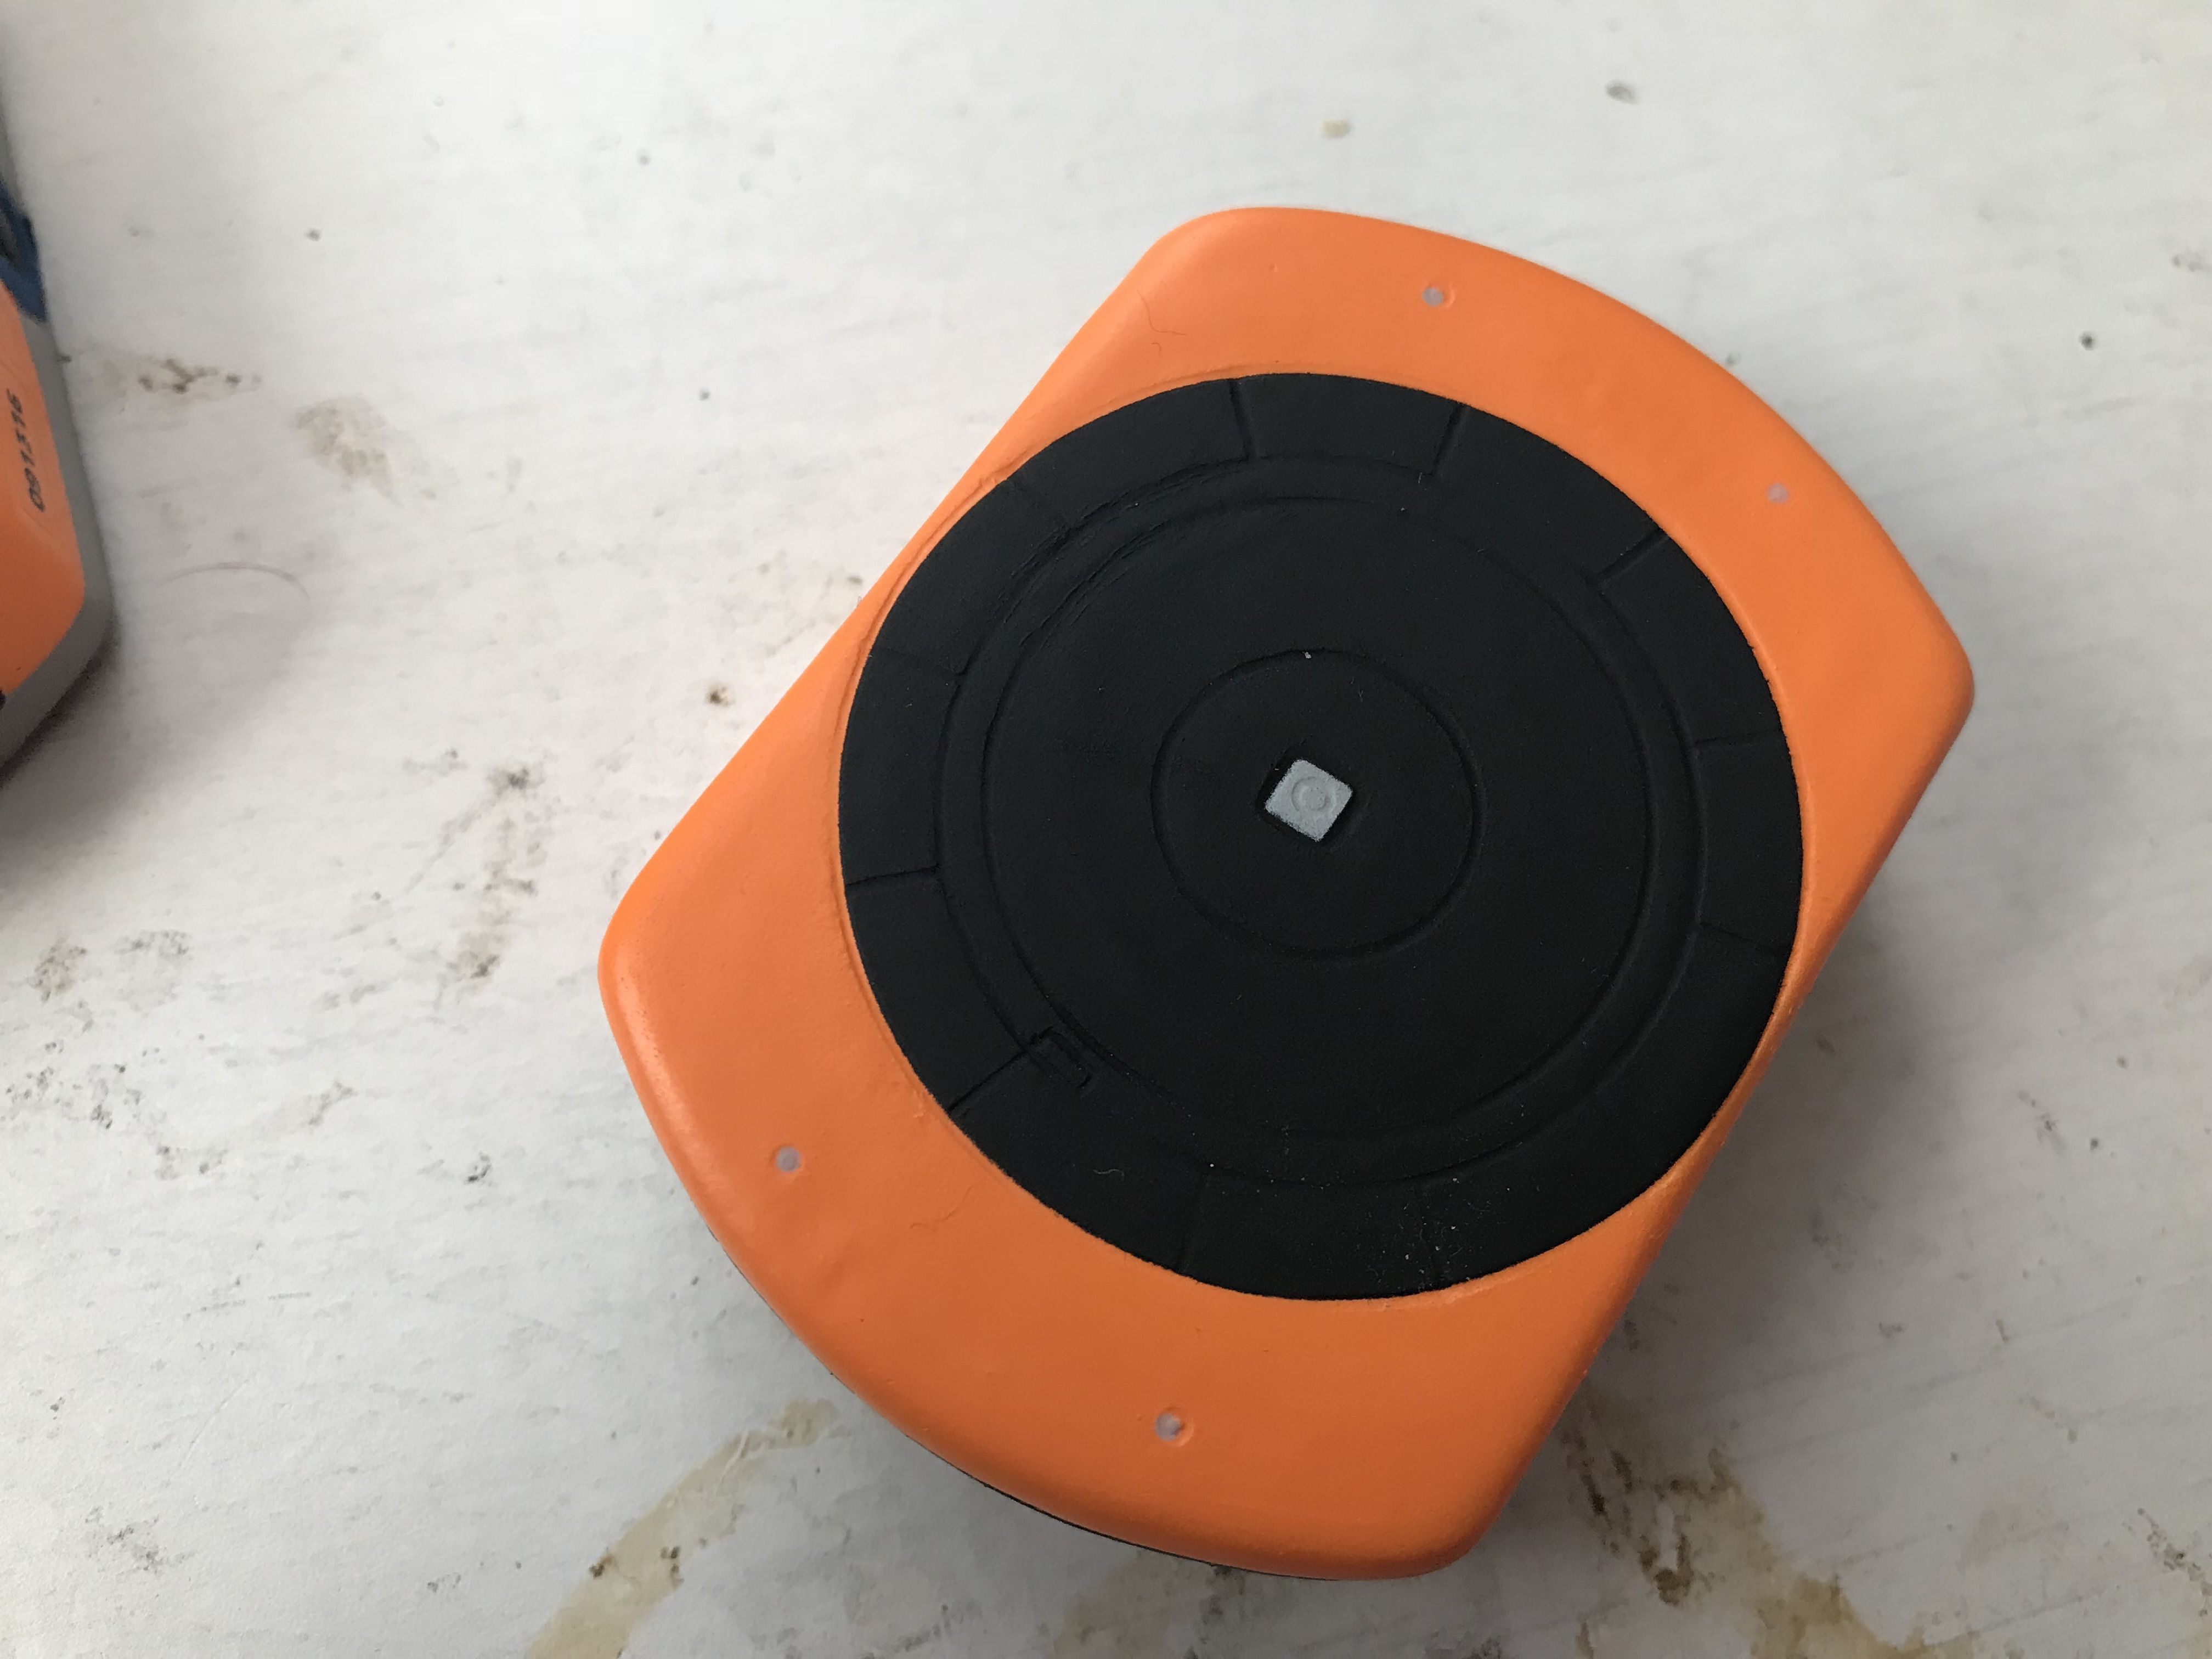amazon_bot: (571, 176, 2076, 1621)
